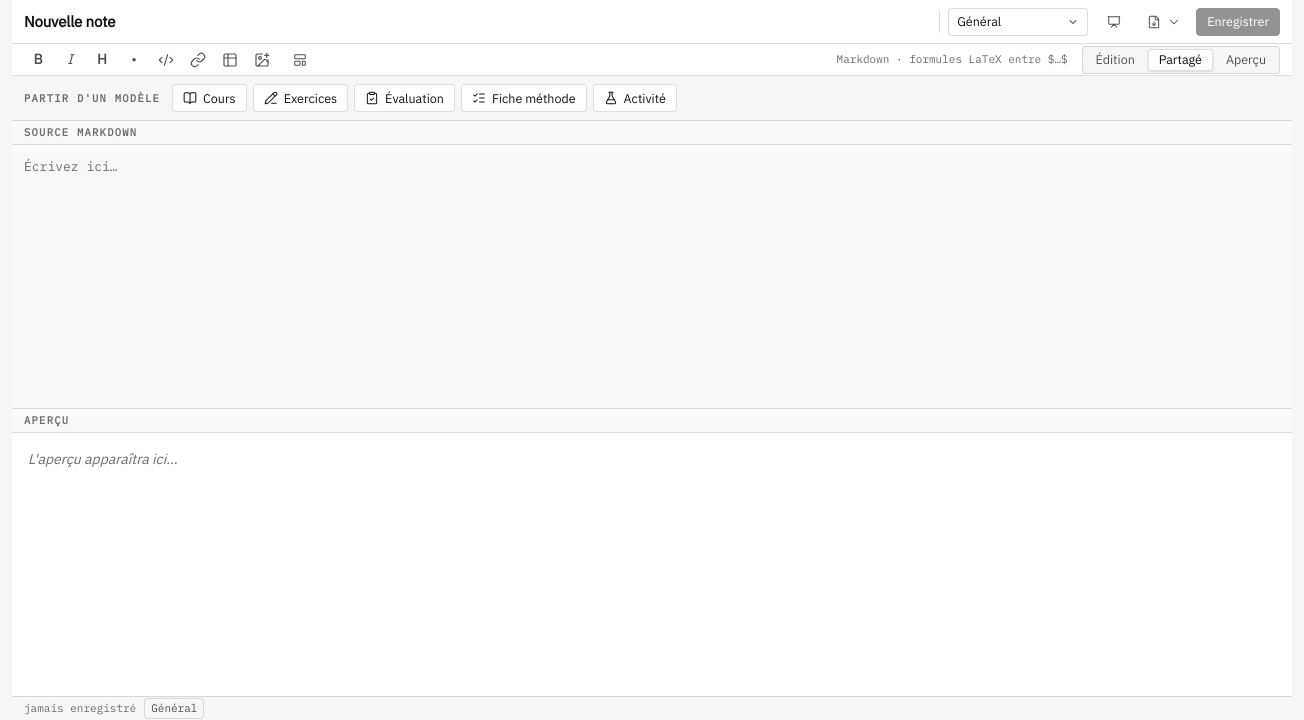
Test case: NoteEditor › names a note whose title was cleared instead of dropping its text
The width and height of the screenshot is (1304, 720).
Clear the field named "Titre de la note": (478, 22) x1=20 y1=7 x2=935 y2=36
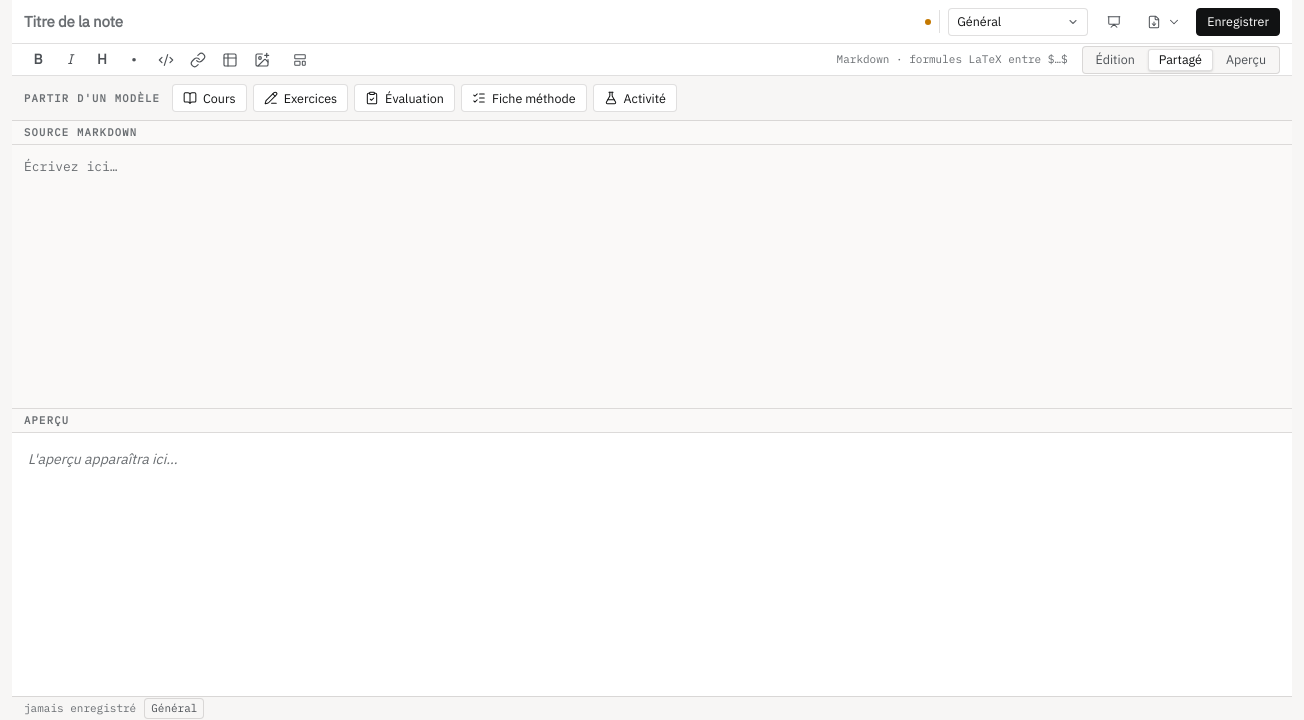
In the text box with placeholder "Écrivez ici…": (652, 276) x1=12 y1=144 x2=1292 y2=408, type "Le théorème de Pythagore"
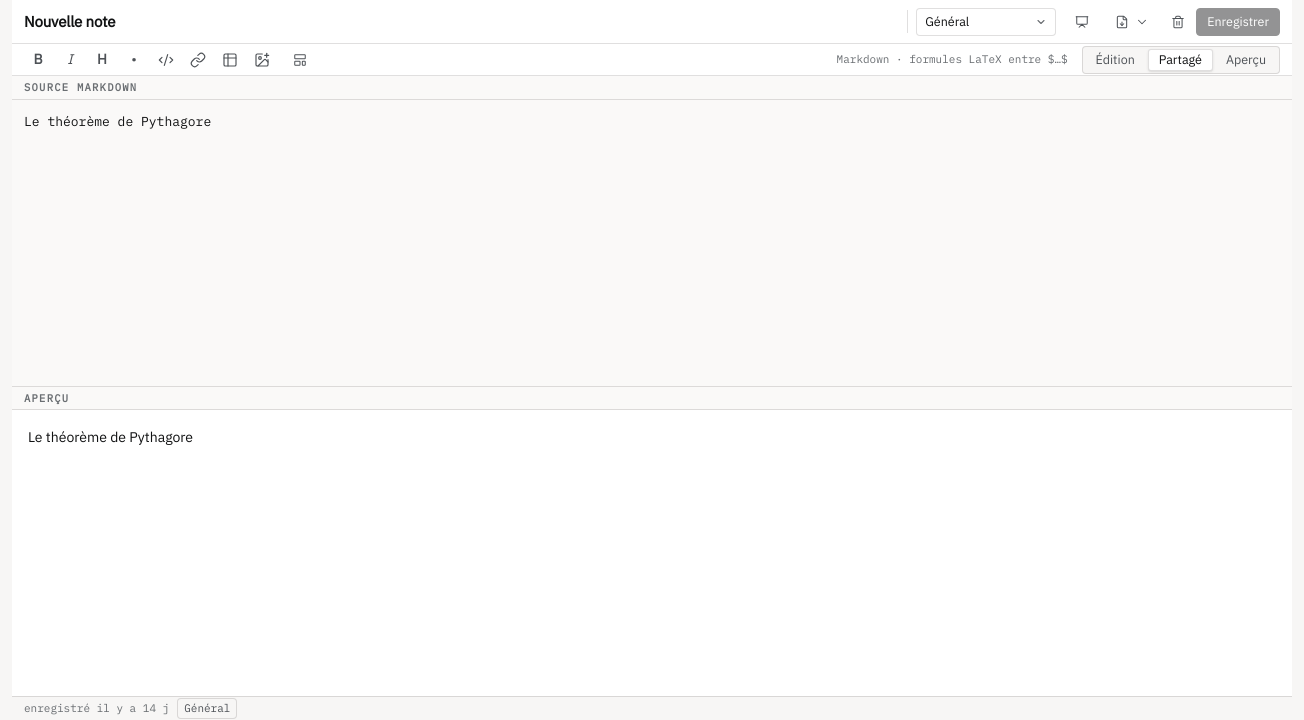
Result: the field named "Titre de la note" holds "Nouvelle note" at x1=20 y1=7 x2=903 y2=36
